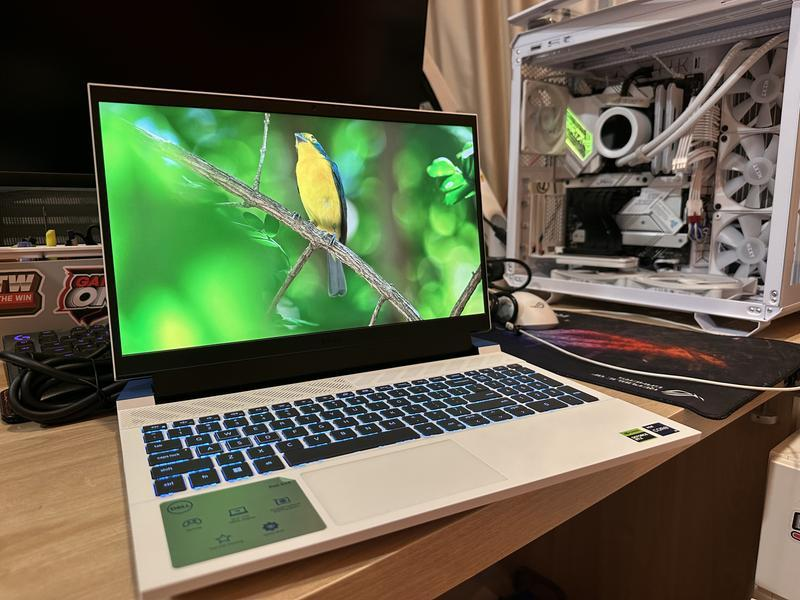laptop: (89, 83, 699, 594)
